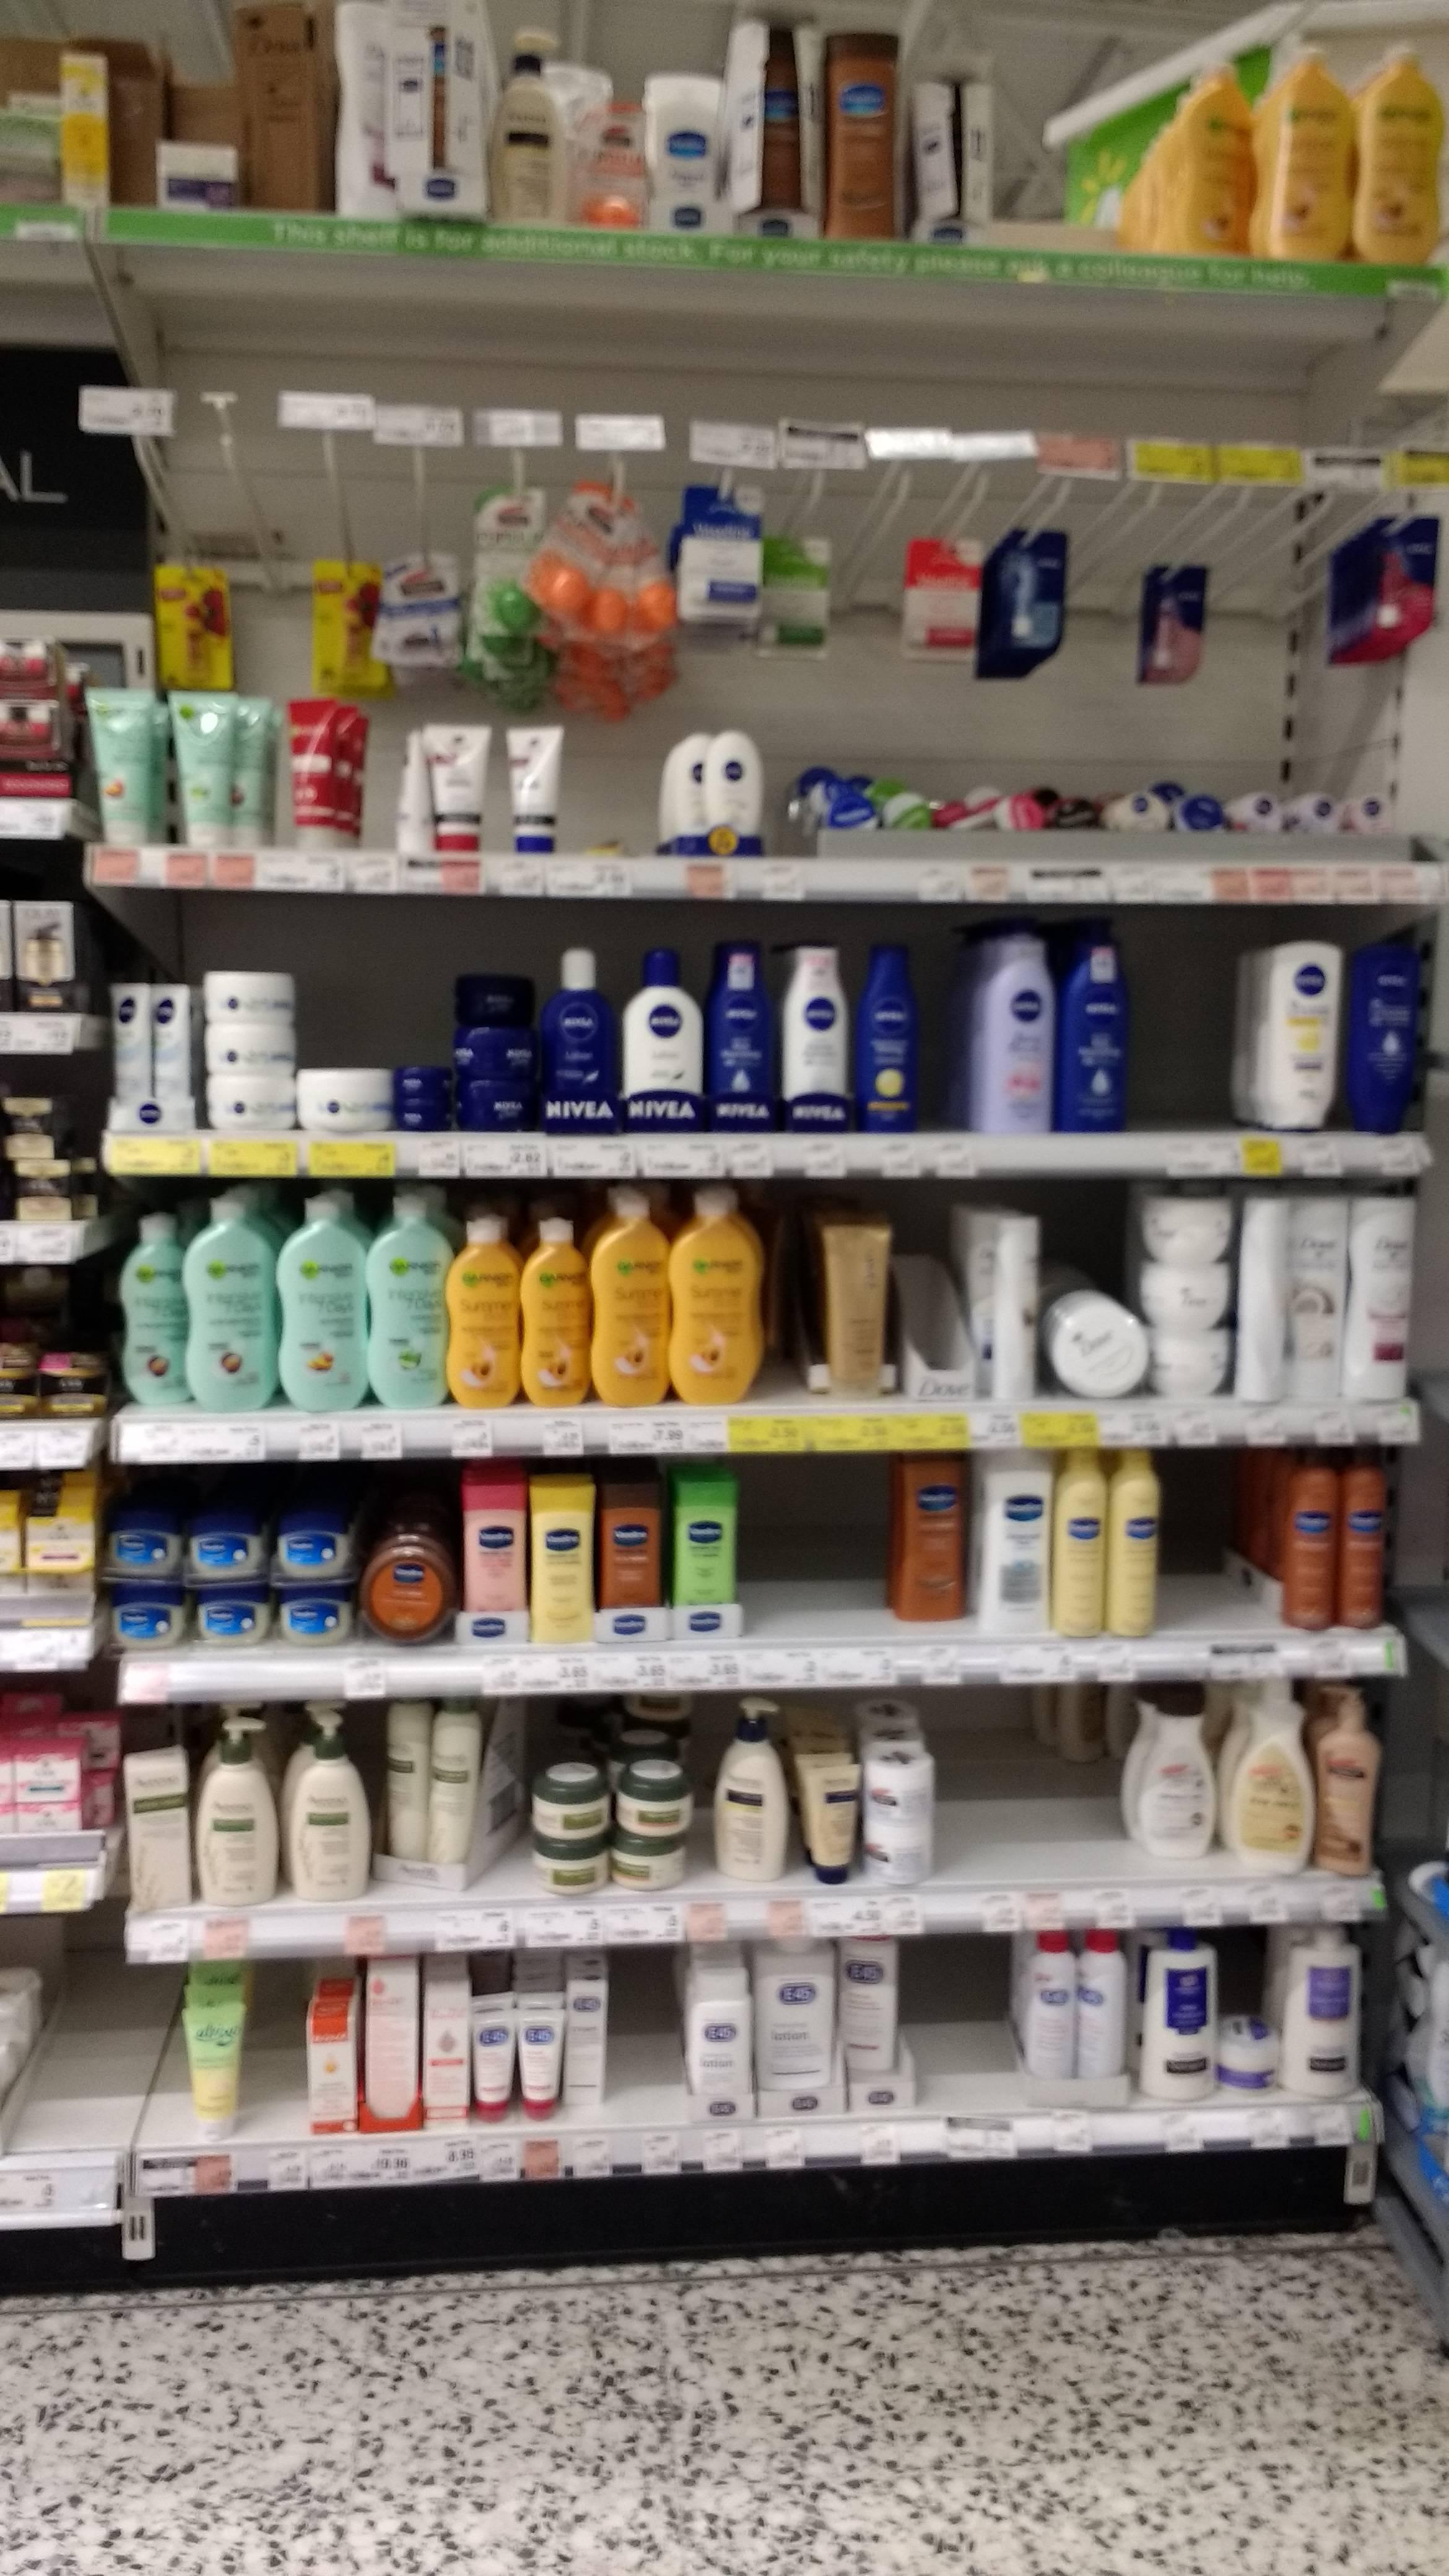empty: (938, 1716, 1115, 1879), (28, 1985, 168, 2139), (747, 1495, 895, 1631), (901, 1950, 1019, 2111), (1157, 1499, 1267, 1633), (554, 732, 667, 851), (617, 1959, 695, 2104)
